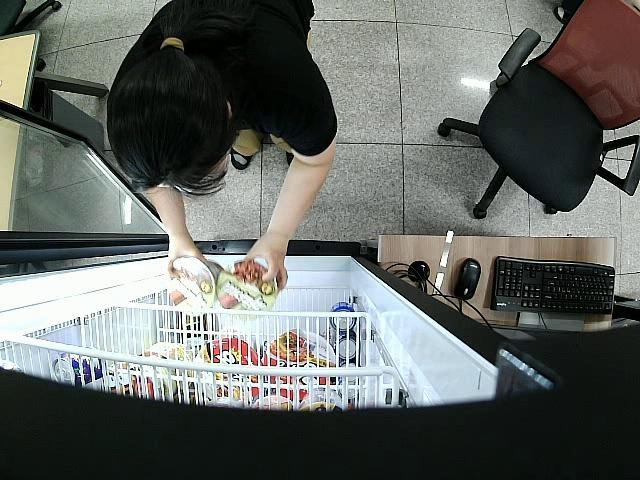03_chapagetti_L: (217, 260, 278, 320), (168, 256, 217, 312)
